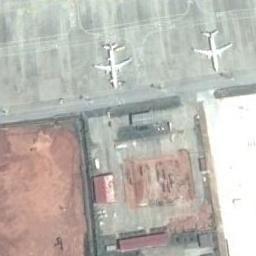Airplane: (92, 42, 135, 90), (188, 28, 232, 74)
